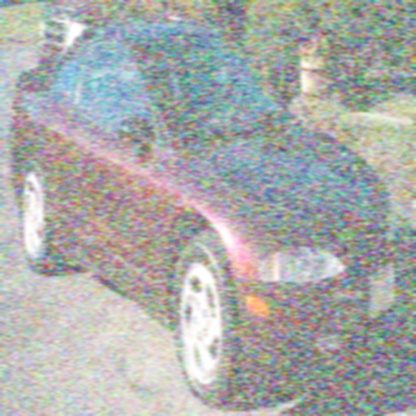Vehicle: (7, 21, 408, 406)
